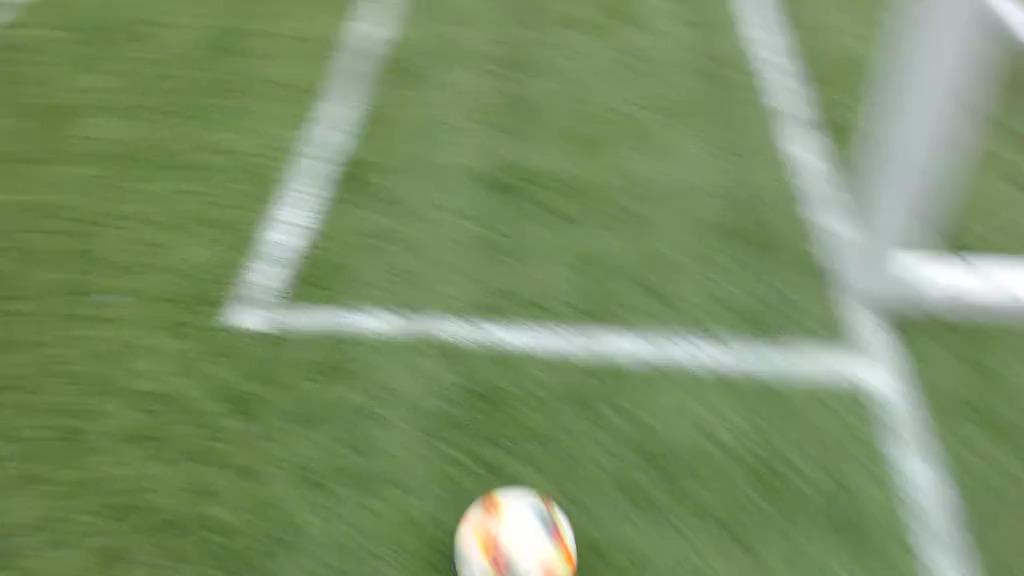ball: (453, 484, 579, 576)
